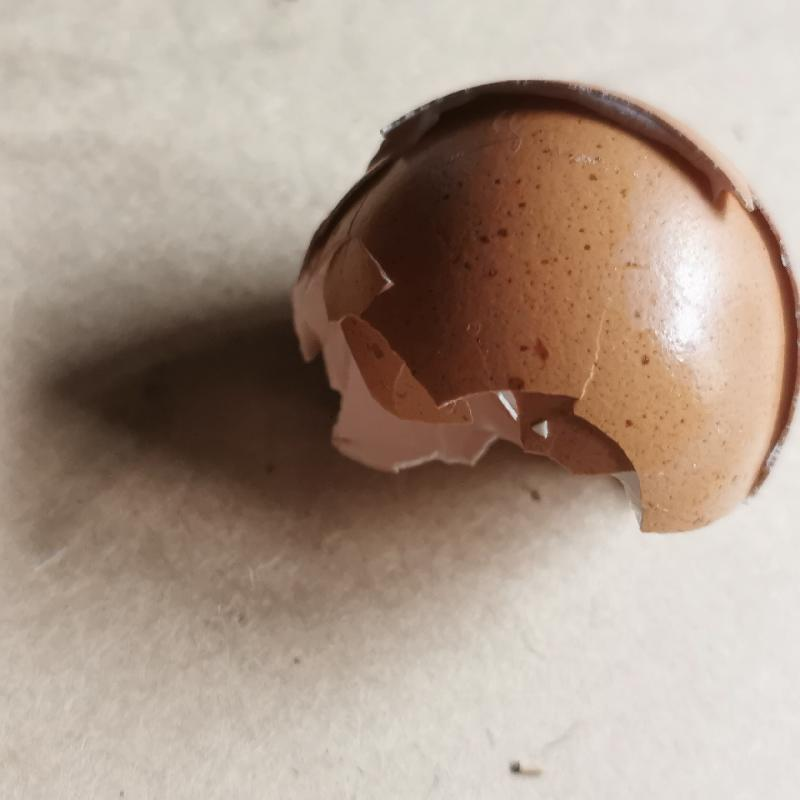eggshell: (285, 78, 799, 539)
